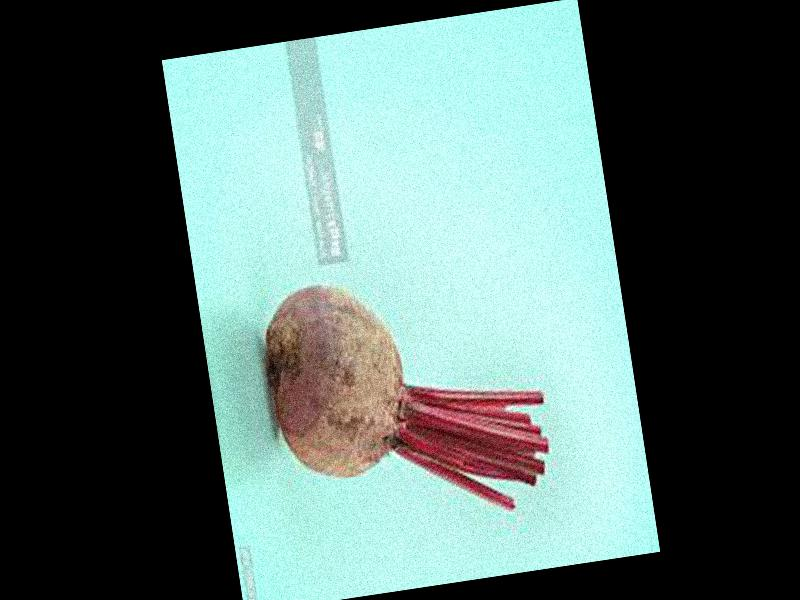Beet: (255, 255, 556, 541)
